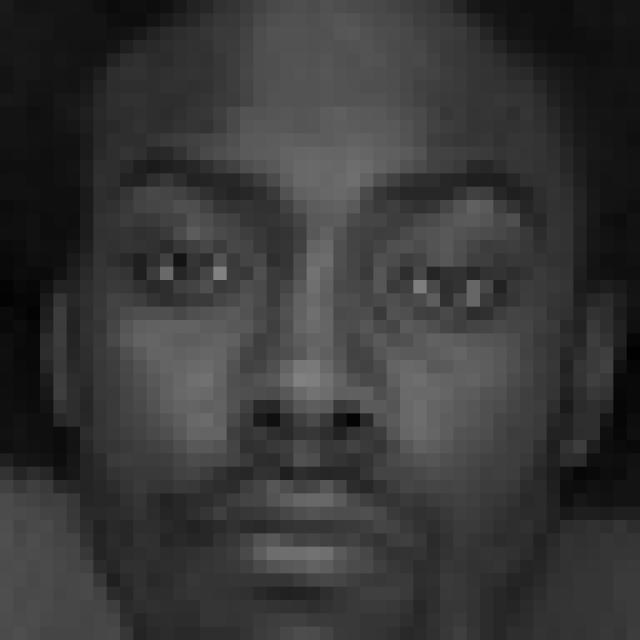neutral: (112, 132, 565, 608)
